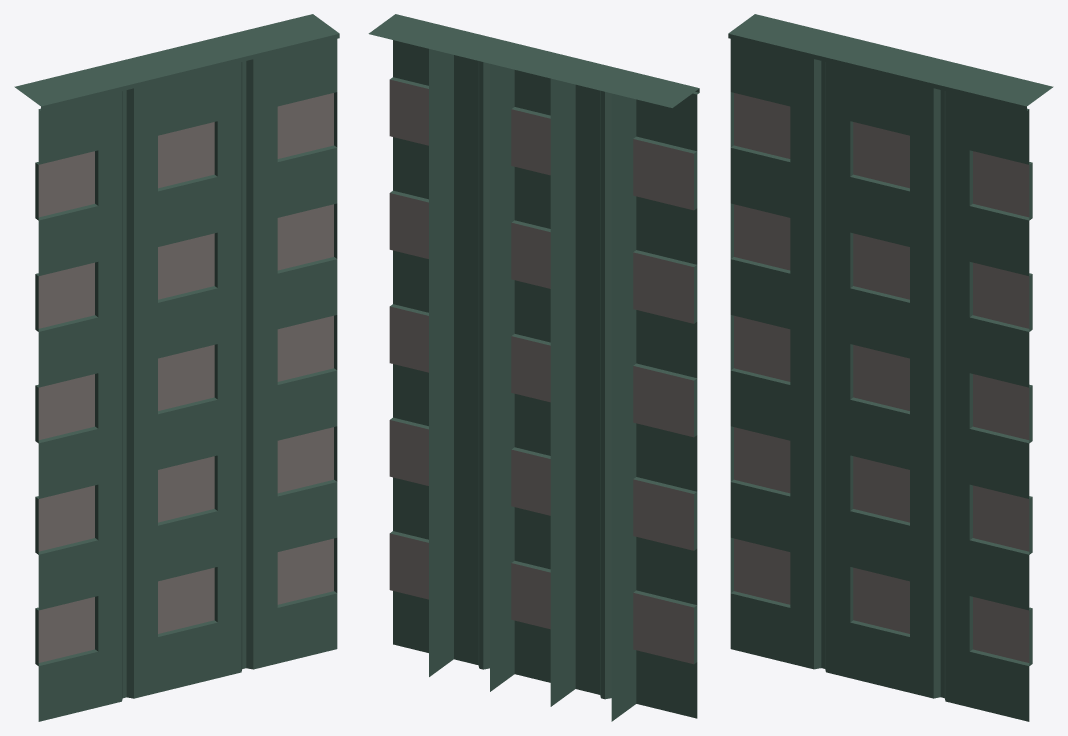
The picture shows the model from 3 angles, left to right: view 1: azimuth 30°, elevation 25°; view 2: azimuth 150°, elevation 25°; view 3: azimuth 330°, elevation 25°; orthographic projection.
Visible parts, largest first — view 1: Pared.Win.x4.014; view 2: Pared.Win.x4.014; view 3: Pared.Win.x4.014.
Part boxes in pixels (x1=…): Pared.Win.x4.014: x1=14, y1=14, x2=339, y2=721; Pared.Win.x4.014: x1=368, y1=14, x2=699, y2=721; Pared.Win.x4.014: x1=728, y1=14, x2=1053, y2=721.
Bounding box in the file's own units: 1392 × 2749 × 217.
